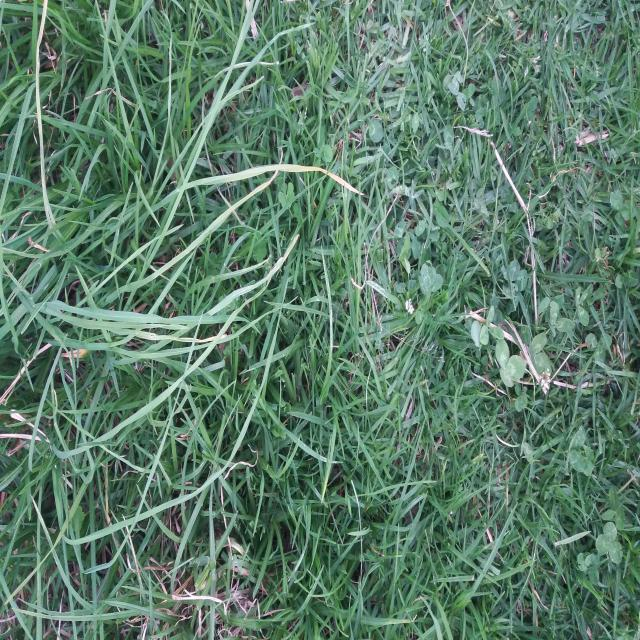Four Leaf Clover: (418, 263, 443, 302)
